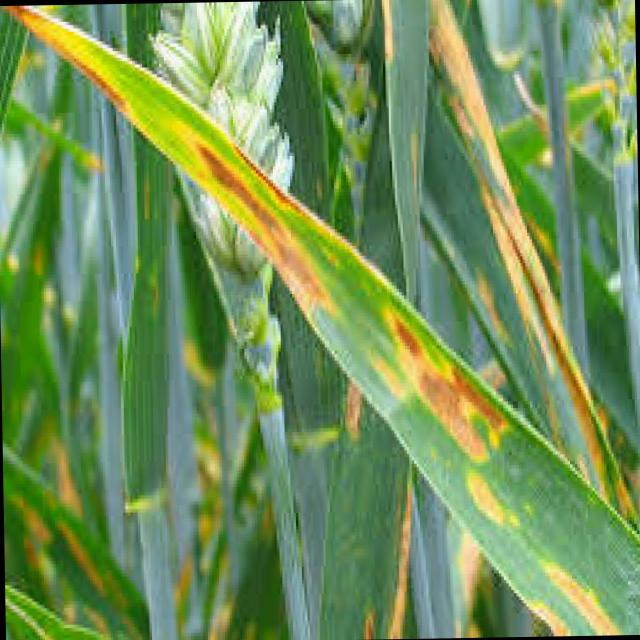leaf_blight: (4, 5, 640, 631)
